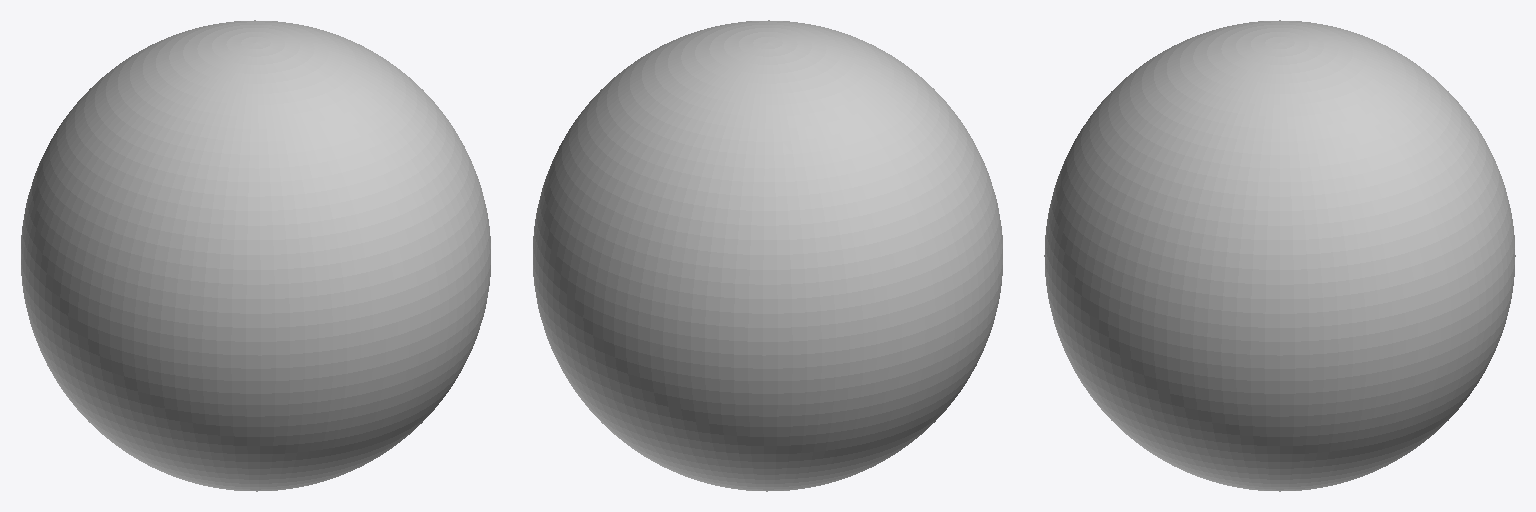
File: unit.obj
3 renders of one model, left to right at view 1: azimuth 30°, elevation 25°; view 2: azimuth 150°, elevation 25°; view 3: azimuth 270°, elevation 25°, orthographic.
Size of the model in its own units: 2 by 2 by 2.